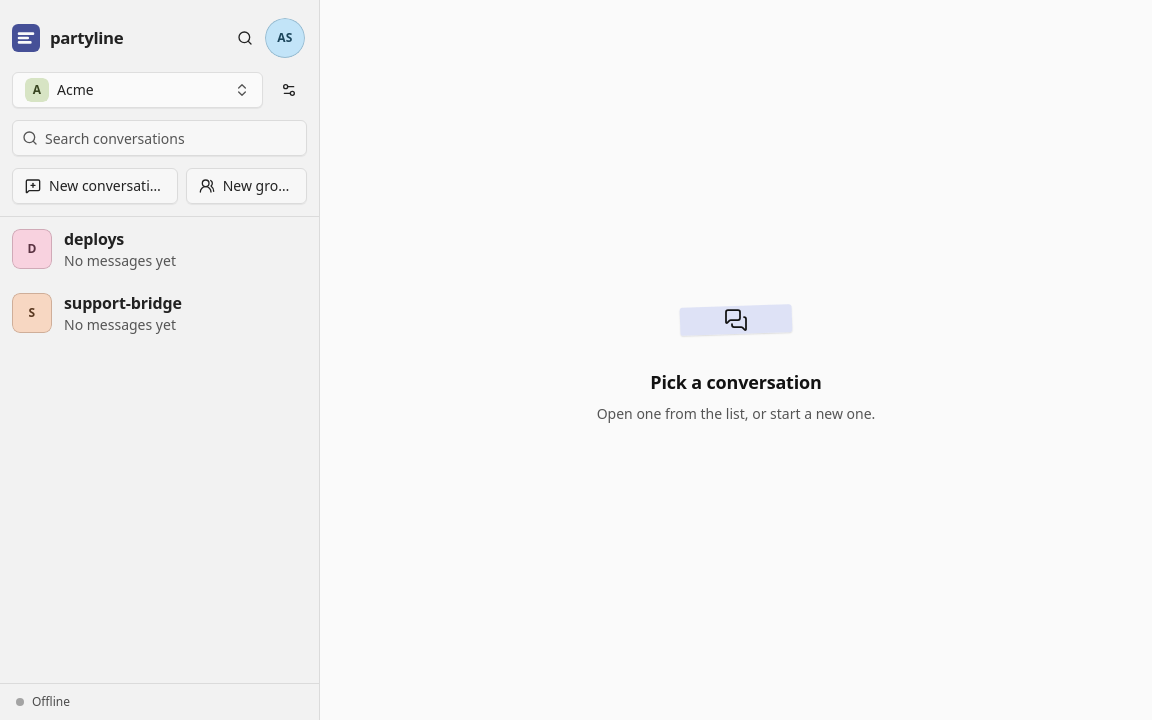
Test: header menu (LAY-06) › shows the person's name and handle at the top of the menu
Click the button with aria-label "Account menu" at (285, 38), box x1=263 y1=16 x2=307 y2=60
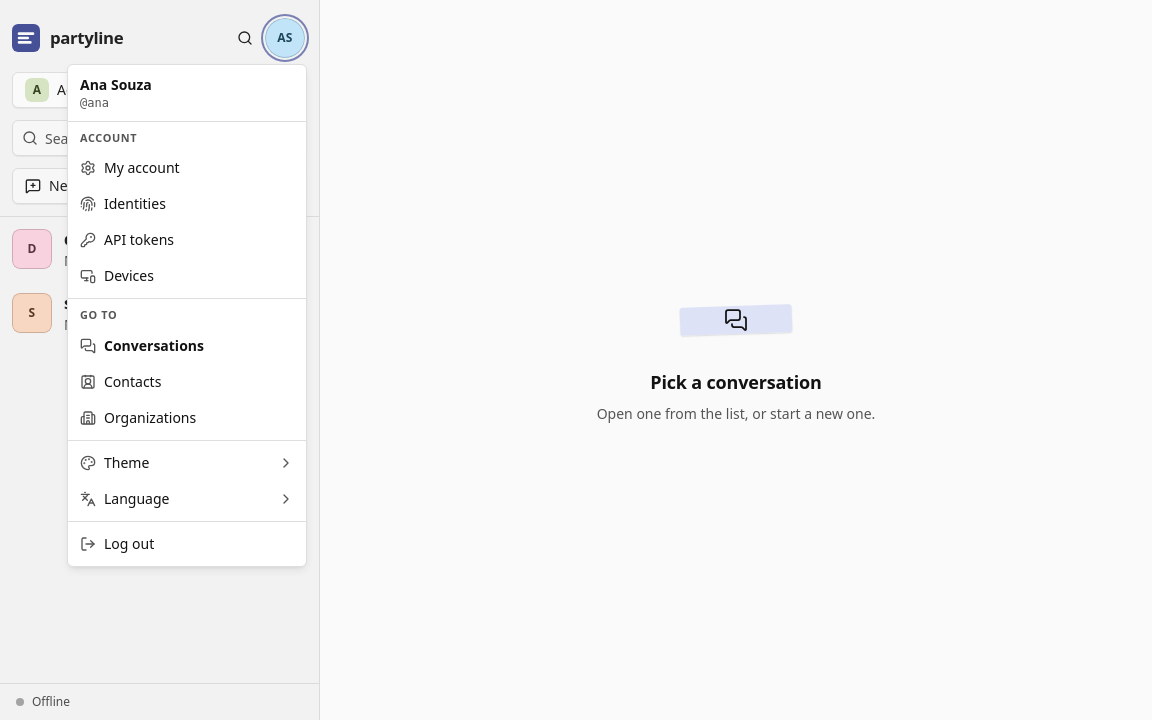
Now the text "Ana Souza" is shown, box x1=80 y1=75 x2=152 y2=94
Now the text "@ana" is shown, box x1=80 y1=96 x2=109 y2=110
